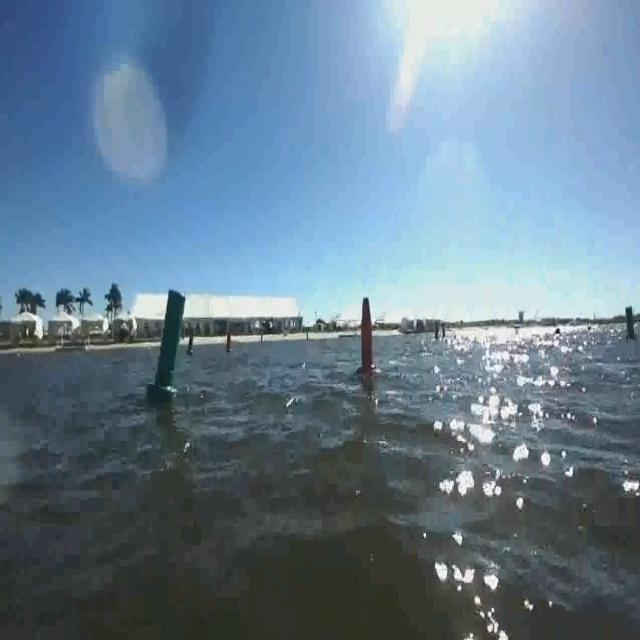green-column-buoy: (148, 289, 189, 401), (623, 304, 639, 343), (186, 328, 196, 356)
red-column-buoy: (356, 295, 377, 379), (225, 332, 232, 354)
